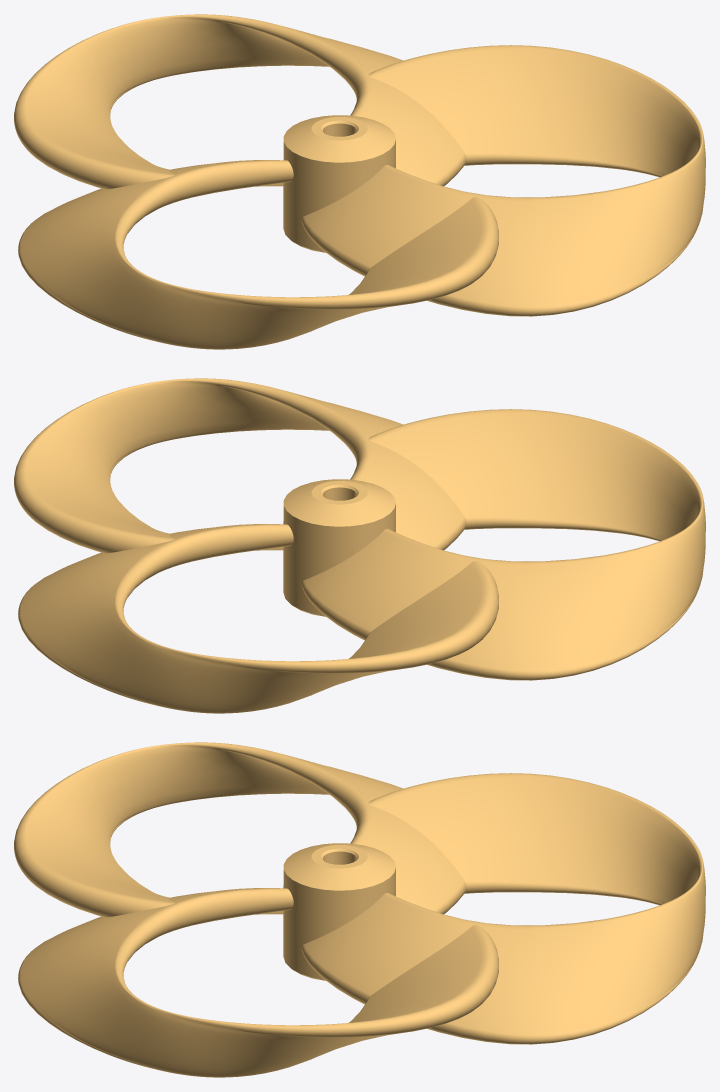
File: ToroidalProp.glb
The picture shows the model from 3 angles, top to bottom: view 1: azimuth 30°, elevation 25°; view 2: azimuth 150°, elevation 25°; view 3: azimuth 270°, elevation 25°; orthographic projection.
Parts seen in each view (by area): view 1: ToroidalPropeller3BladesV2_CCW_nuevo; view 2: ToroidalPropeller3BladesV2_CCW_nuevo; view 3: ToroidalPropeller3BladesV2_CCW_nuevo.
Boxes of the visible parts, left/top/right/bottom form: ToroidalPropeller3BladesV2_CCW_nuevo: left=14, top=14, right=705, bottom=349; ToroidalPropeller3BladesV2_CCW_nuevo: left=14, top=378, right=705, bottom=713; ToroidalPropeller3BladesV2_CCW_nuevo: left=14, top=742, right=705, bottom=1077.
Size of the model in its own units: 0.0315 by 0.005 by 0.0307.
